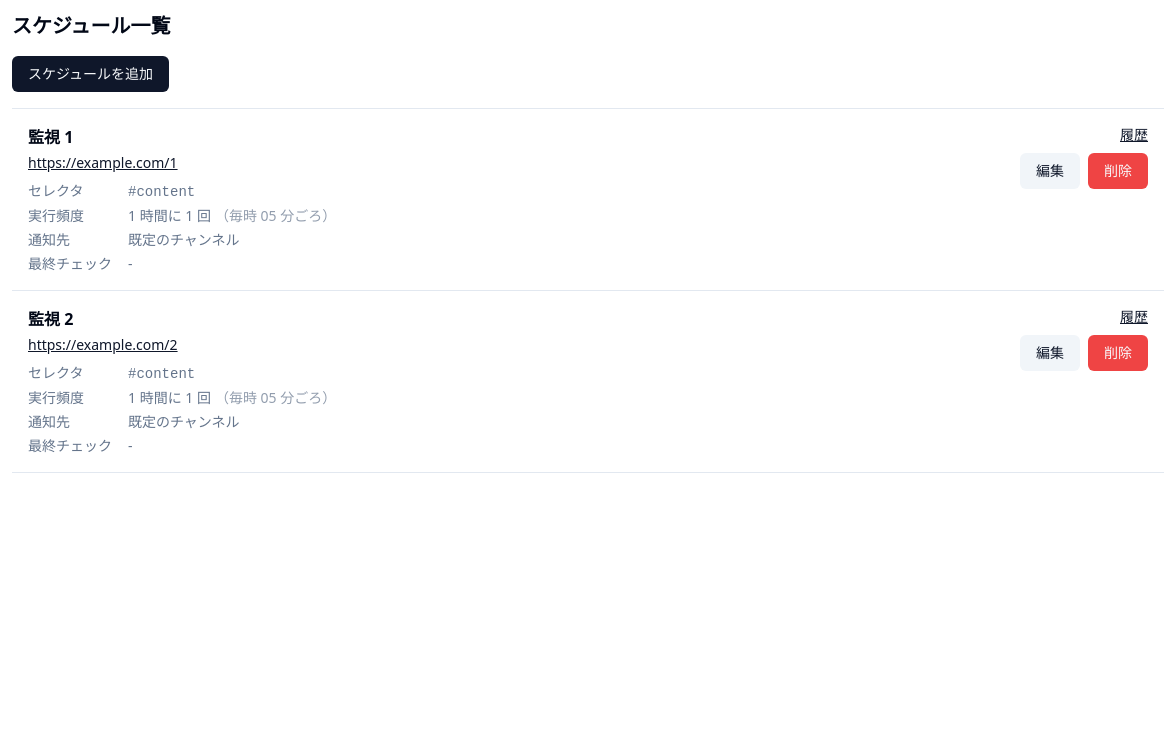
Test case: ScheduleList — exclusive editing › disables the other rows while one is being edited
Expected: the heading "監視 1" is shown, x1=28 y1=126 x2=73 y2=148
Click the button "編集" in the row of "https://example.com/1" at coordinates (1050, 171), box x1=1020 y1=153 x2=1080 y2=189
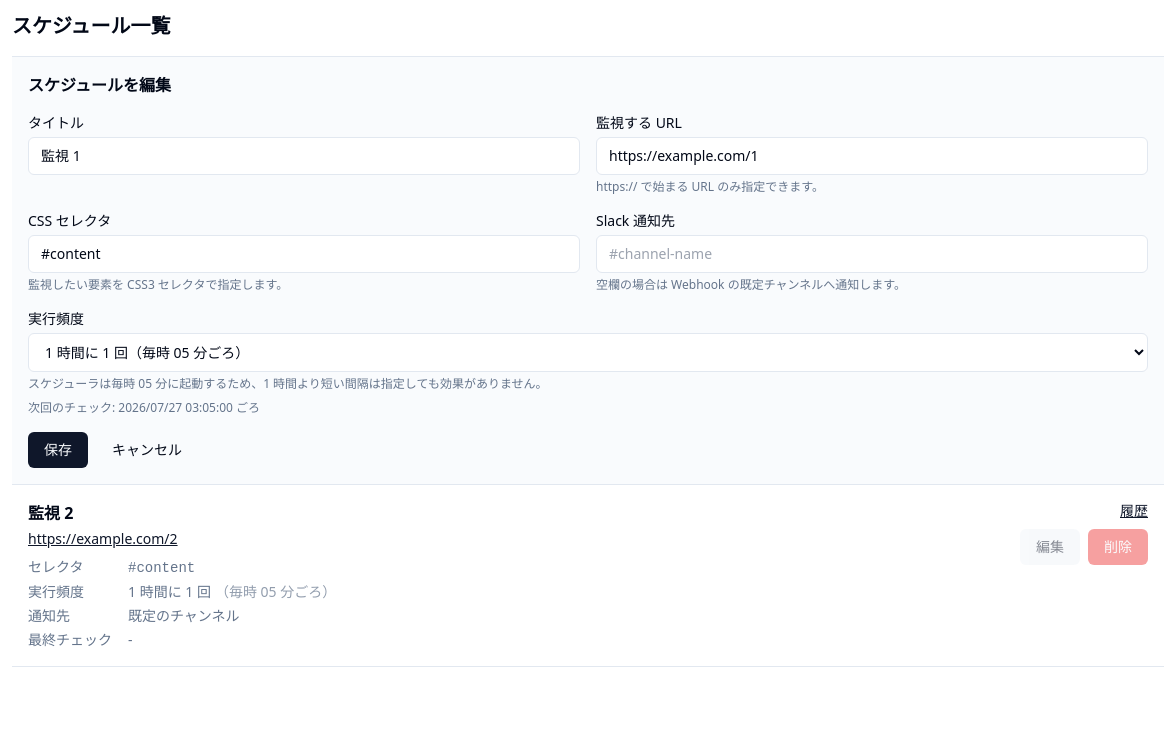
Expected: the heading "スケジュールを編集" is shown, x1=28 y1=74 x2=171 y2=96
Expected: the button "編集" is disabled, x1=1020 y1=529 x2=1080 y2=565
Expected: the button "削除" is disabled, x1=1088 y1=529 x2=1148 y2=565
